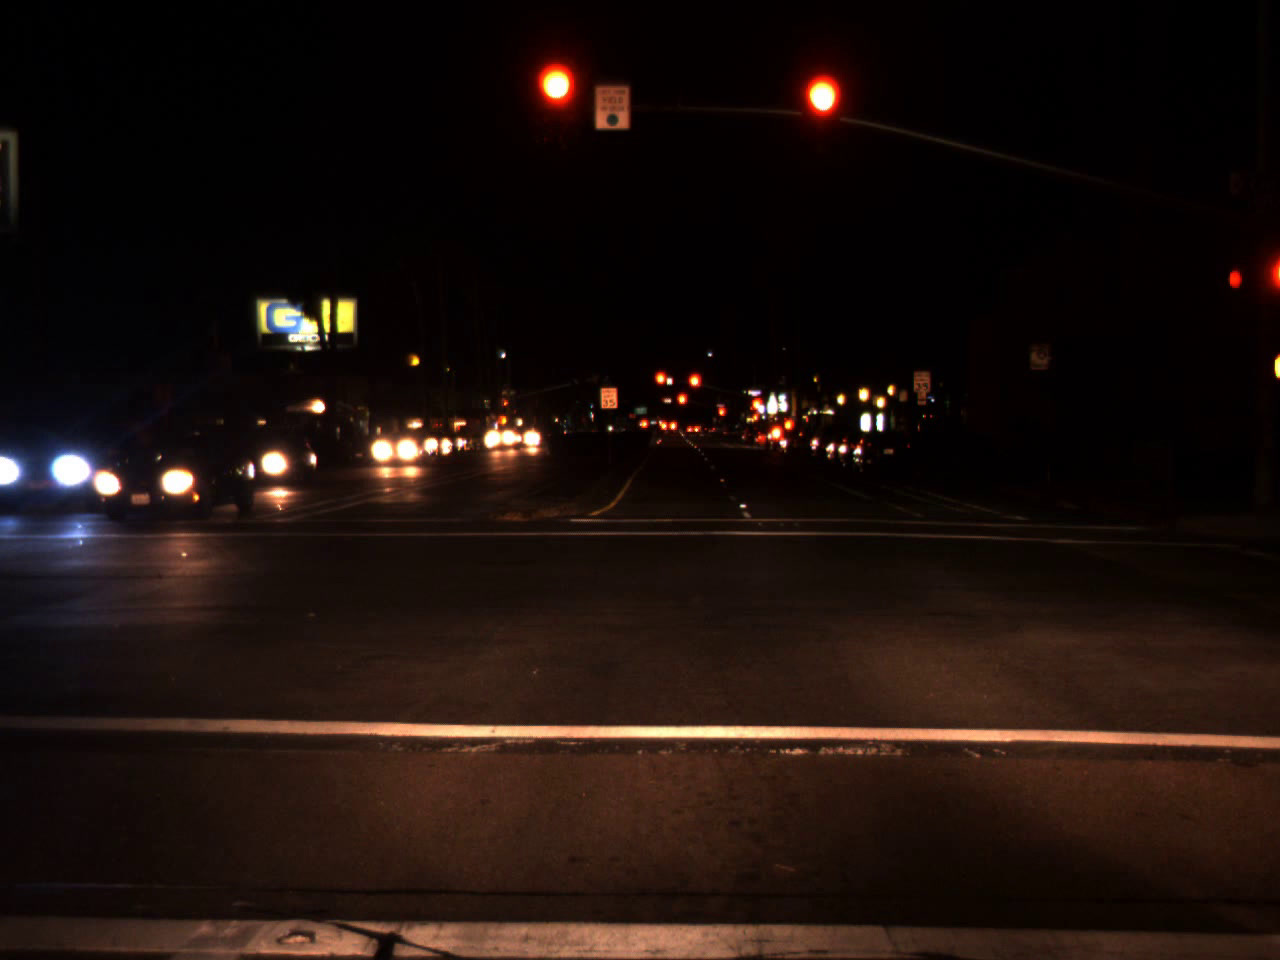stop: (536, 66, 577, 144), (802, 75, 839, 153), (653, 369, 669, 401), (686, 371, 702, 403), (676, 391, 688, 418), (751, 397, 761, 418), (717, 406, 726, 427), (503, 398, 509, 414)
